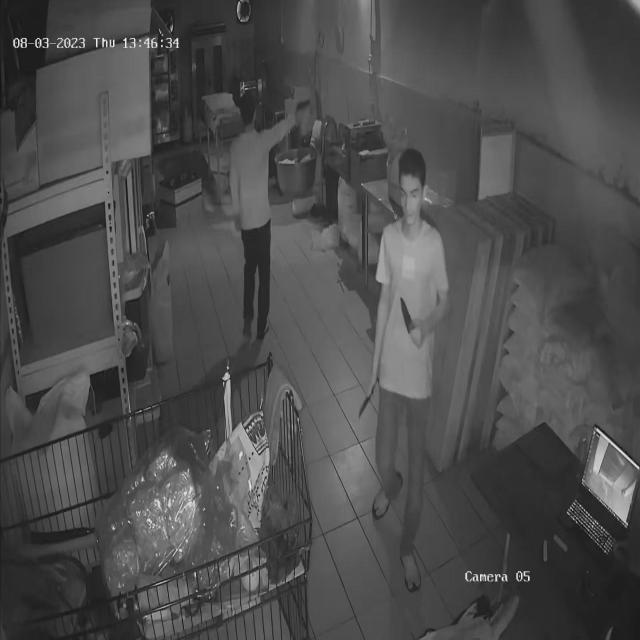Knife: (392, 288, 431, 354)
